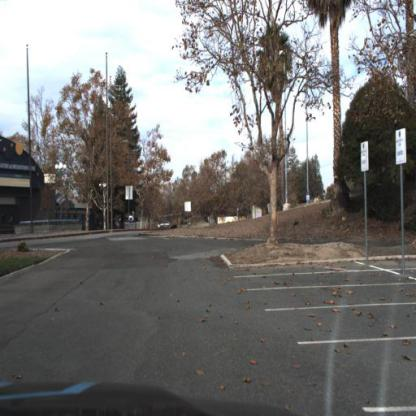car: (162, 222, 172, 229)
truck: (130, 212, 140, 224)
